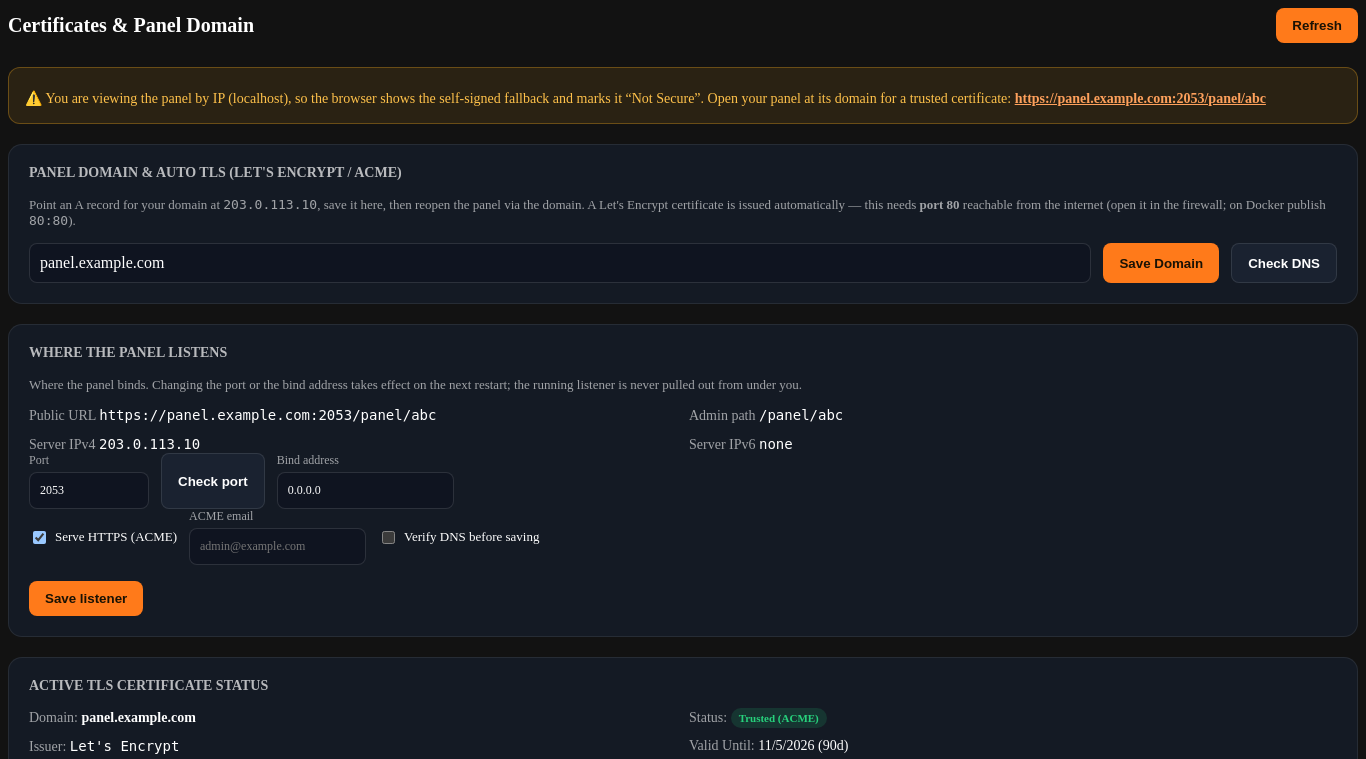
Test: CertificatesView panel listener › pre-flights the port before the panel is moved onto it
Replace the text in the number field with test id "port-input" with "80" at (89, 490), box [29, 472, 149, 509]
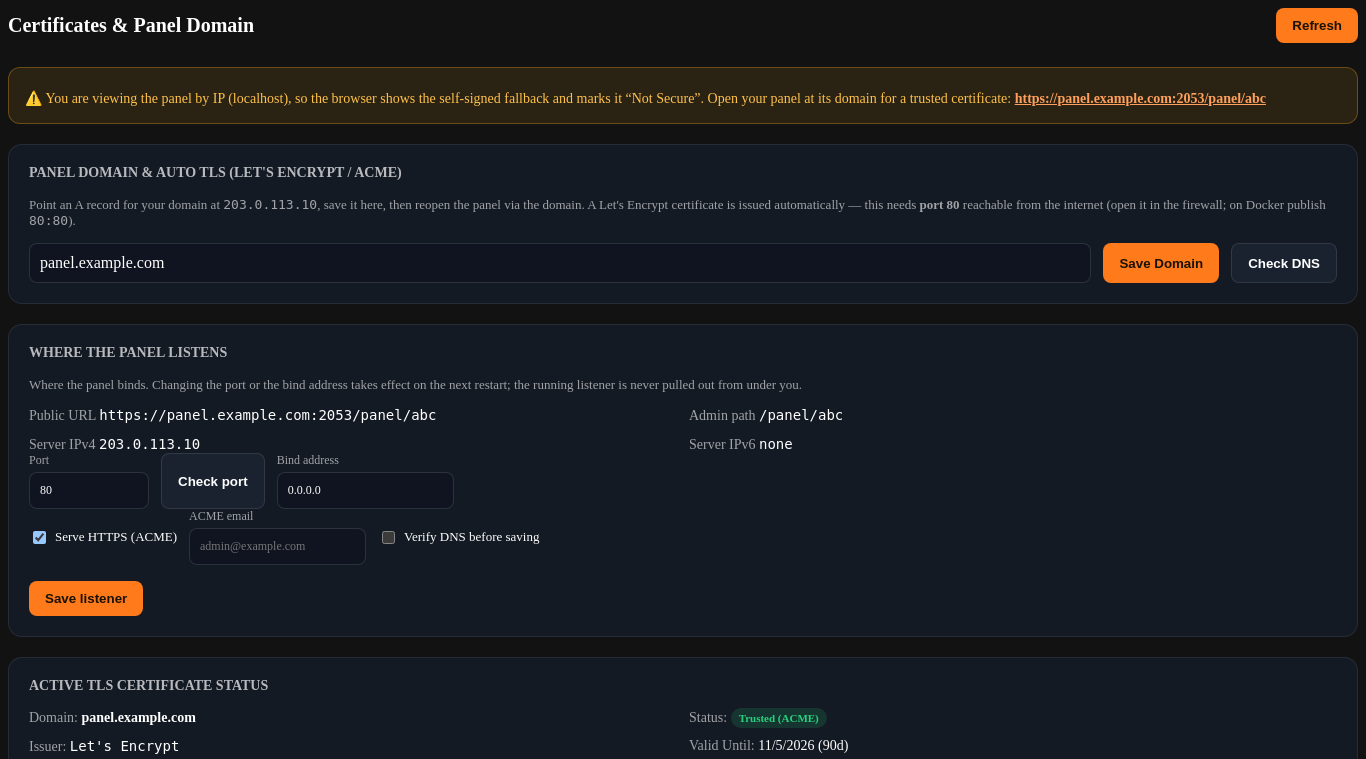
Click the button with test id "check-port" at (213, 481), box [161, 453, 265, 509]
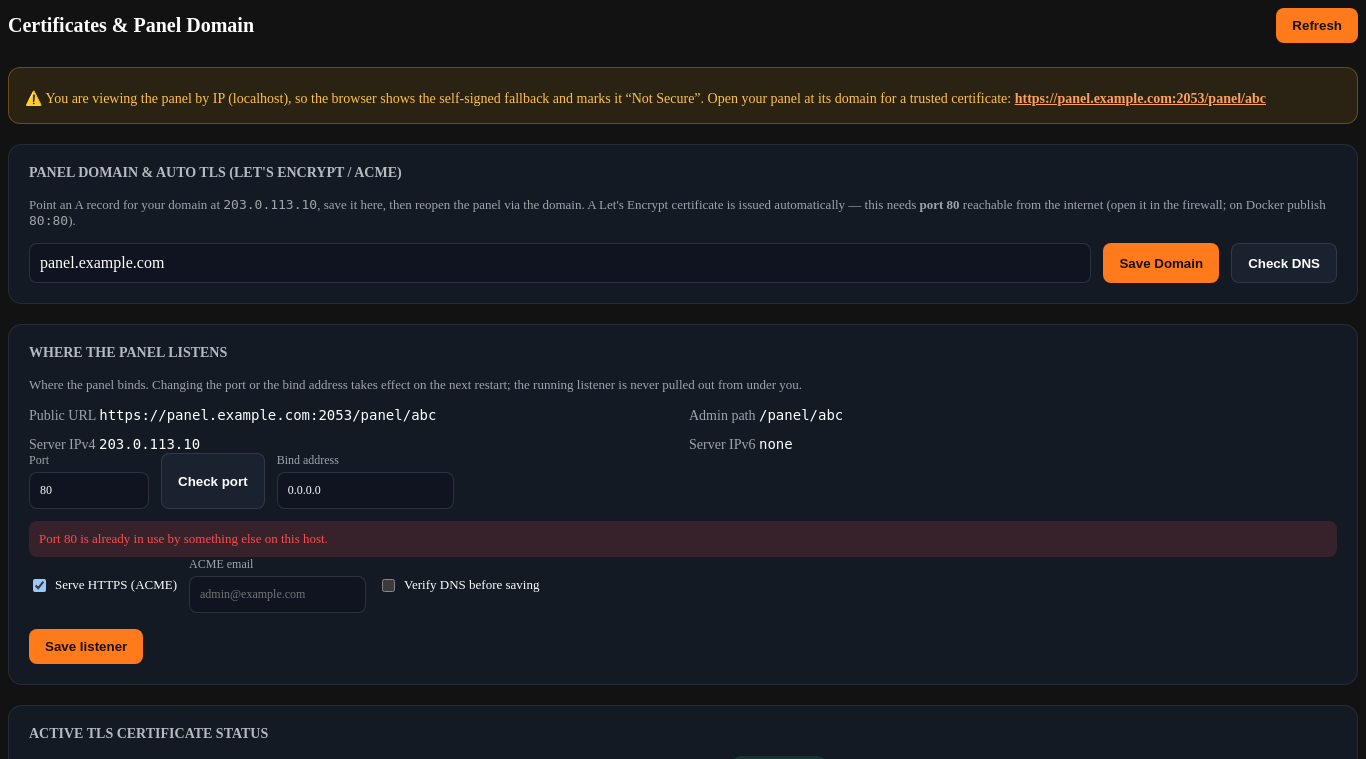
Now the text with test id "port-result" shows "already in use", box [39, 531, 328, 546]
